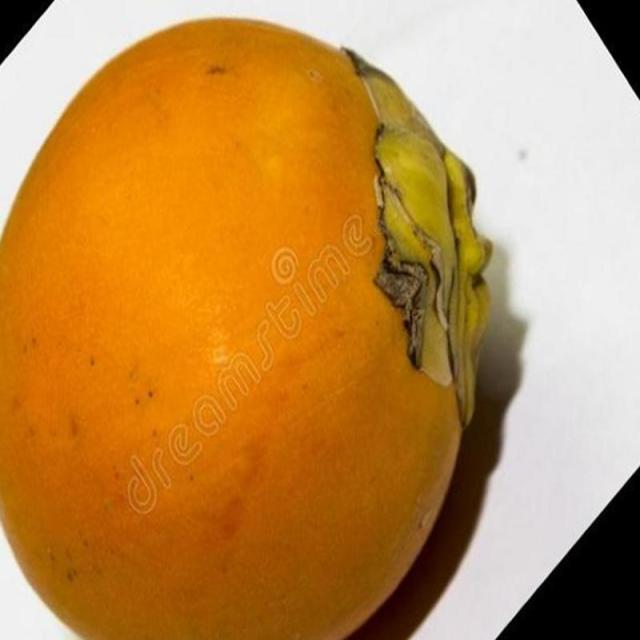good: (0, 16, 494, 639)
